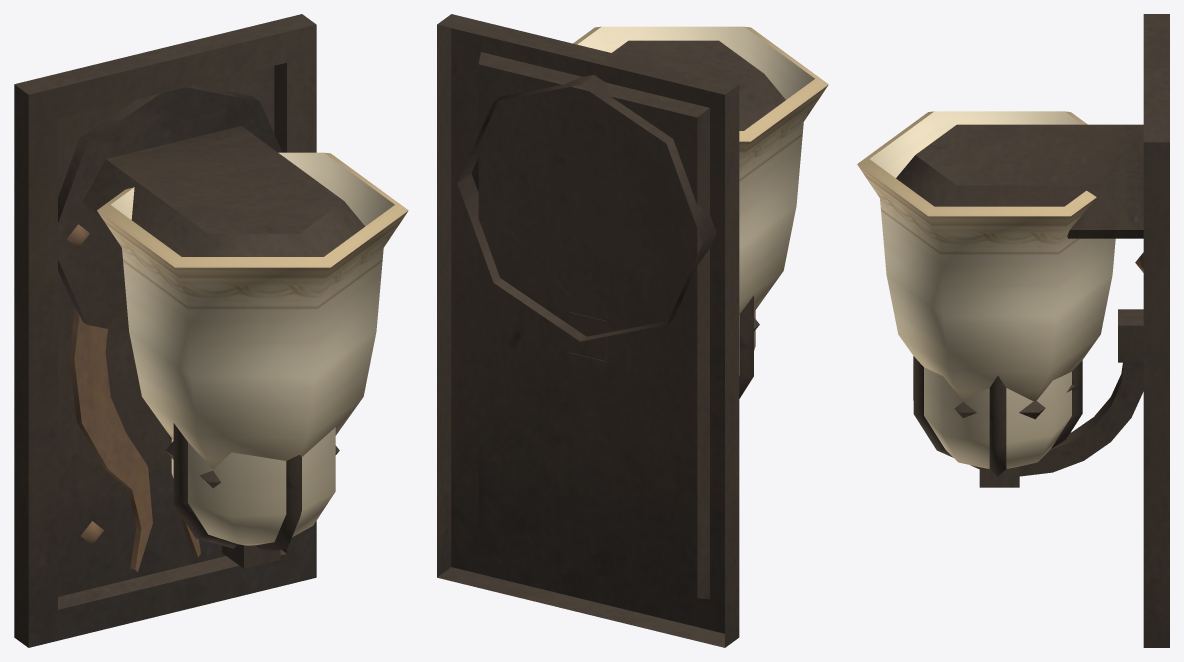
File: WallLights.FBX
The picture shows the model from 3 angles, left to right: view 1: azimuth 30°, elevation 25°; view 2: azimuth 150°, elevation 25°; view 3: azimuth 270°, elevation 25°; orthographic projection. The views are drawn at different scales.
Parts seen in each view (by area): view 1: Light_Wall_Covered, Light_Wall_Bunker, Light_Wall_Open; view 2: Light_Wall_Covered, Light_Wall_Open, Light_Wall_Bunker; view 3: Light_Wall_Covered, Light_Wall_Bunker, Light_Wall_Open.
Boxes of the visible parts, <box> form: Light_Wall_Covered: <box>14,14,408,647</box>; Light_Wall_Bunker: <box>58,85,364,552</box>; Light_Wall_Open: <box>14,25,338,646</box>; Light_Wall_Covered: <box>437,14,828,647</box>; Light_Wall_Open: <box>437,25,759,645</box>; Light_Wall_Bunker: <box>457,40,785,398</box>; Light_Wall_Covered: <box>857,14,1169,615</box>; Light_Wall_Bunker: <box>896,124,1143,476</box>; Light_Wall_Open: <box>955,142,1169,647</box>.
Size of the model in its own units: 21.21 by 38.93 by 21.84.
Materials: 1 (1 with a texture image).
